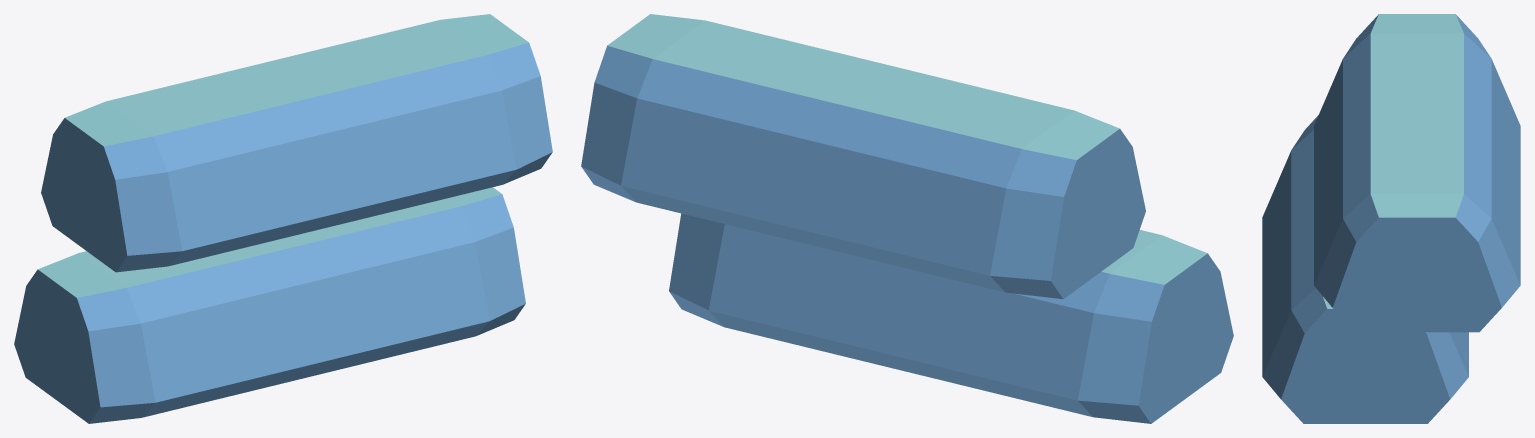
Rendered from spectre_bar.glb.
The picture shows the model from 3 angles, left to right: view 1: azimuth 30°, elevation 25°; view 2: azimuth 150°, elevation 25°; view 3: azimuth 270°, elevation 25°; orthographic projection. The views are drawn at different scales.
Visible parts, largest first — view 1: spectre_bar_v0; view 2: spectre_bar_v0; view 3: spectre_bar_v0.
Part boxes in pixels (x1,y1,x2,y2): spectre_bar_v0: [14, 14, 552, 423]; spectre_bar_v0: [581, 14, 1233, 423]; spectre_bar_v0: [1262, 14, 1520, 423].
Bounding box in the file's own units: 0.315 × 0.15 × 0.15.
